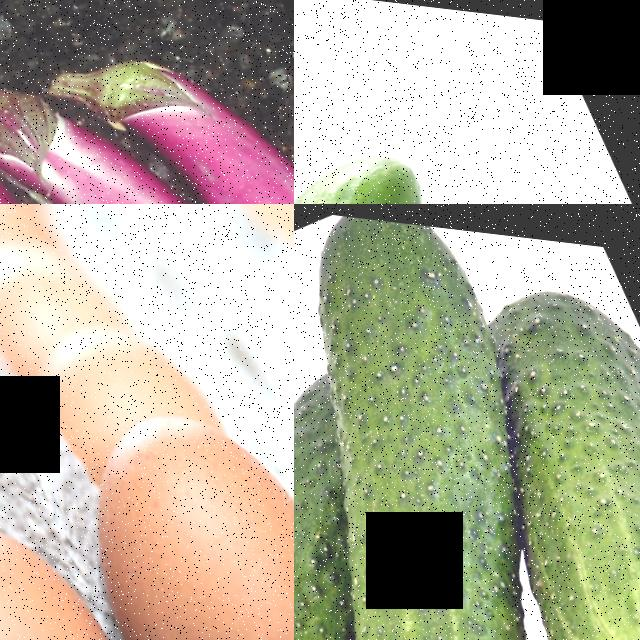cucumber: (294, 204, 555, 521), (294, 466, 616, 640), (467, 385, 640, 640), (294, 95, 460, 204), (409, 158, 579, 204)
egg_: (35, 346, 294, 640), (19, 276, 230, 487), (0, 464, 159, 640)
eggplant: (0, 7, 294, 204), (110, 0, 294, 204), (0, 71, 186, 204), (0, 66, 108, 204)
